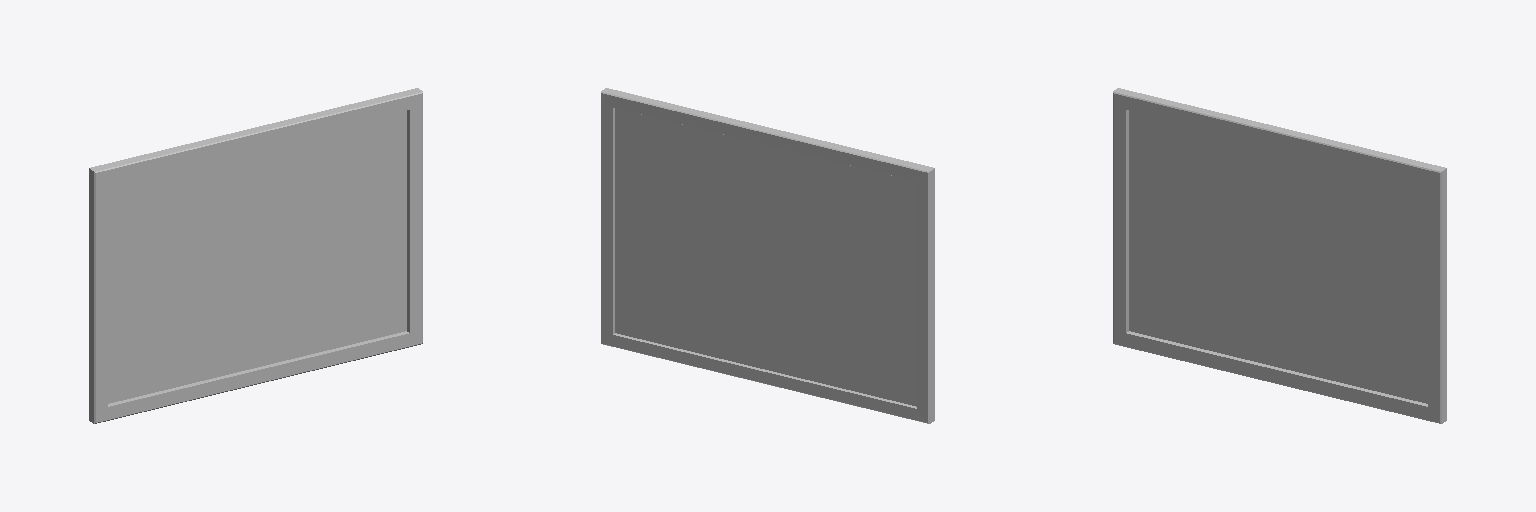
File: A1_Landscape.obj
The picture shows the model from 3 angles: view 1: azimuth 30°, elevation 25°; view 2: azimuth 150°, elevation 25°; view 3: azimuth 330°, elevation 25°; orthographic projection.
Visible parts, largest first — view 1: A1_Landscape.obj; view 2: A1_Landscape.obj; view 3: A1_Landscape.obj.
Part boxes in pixels (x1,y1,x2,y2): A1_Landscape.obj: (89, 88, 422, 423); A1_Landscape.obj: (601, 88, 934, 423); A1_Landscape.obj: (1113, 88, 1446, 423).
Size of the model in its own units: 0.9084 by 0.6658 by 0.0298.